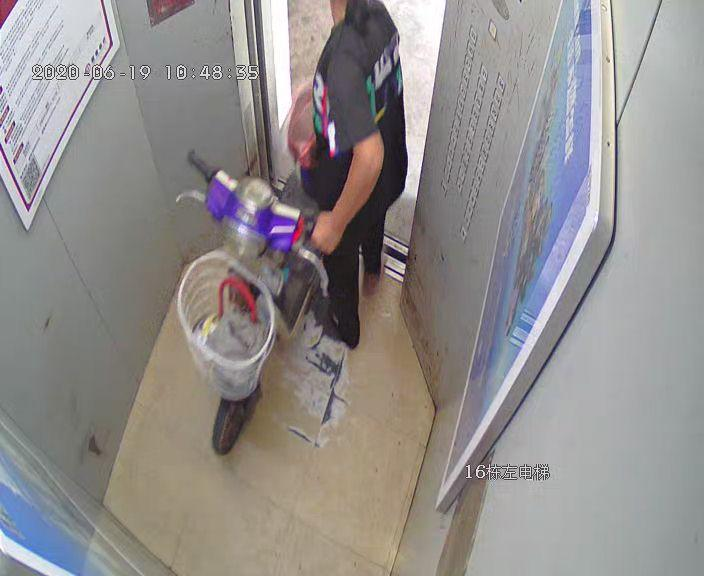Electric-bicycle: (171, 81, 326, 450)
